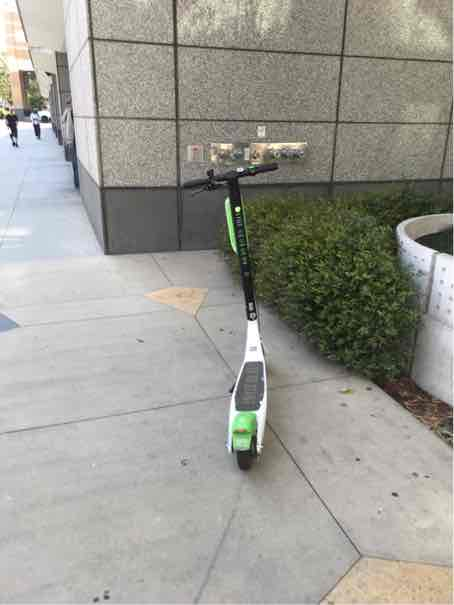scooter: (174, 157, 293, 477)
